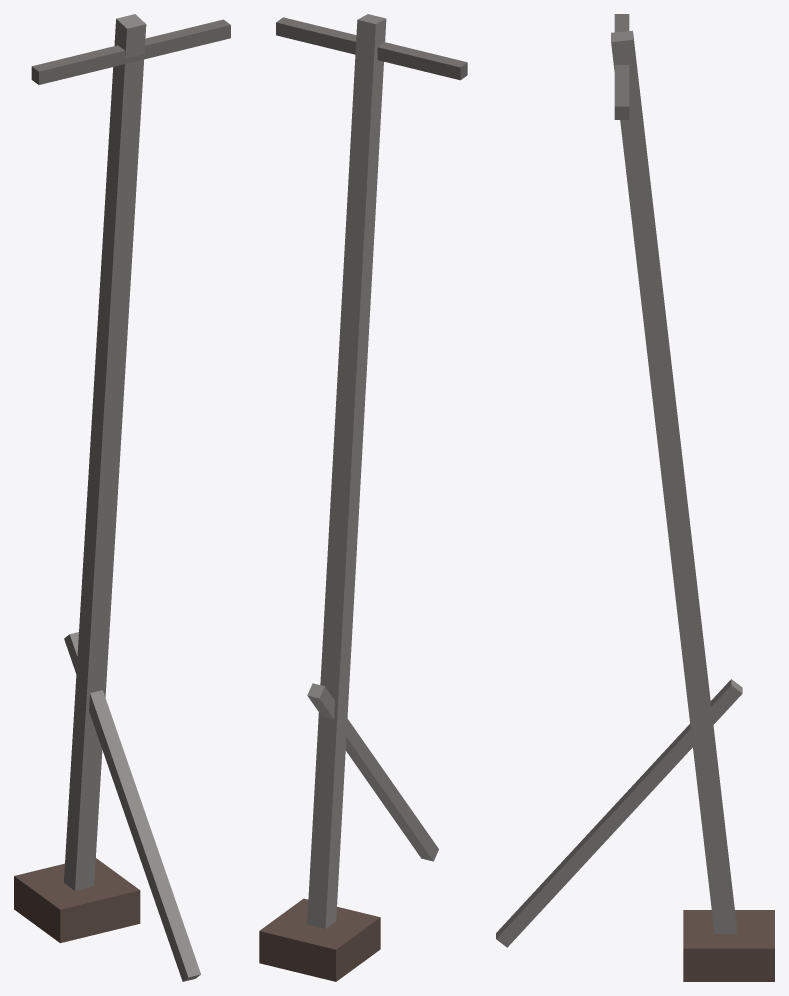
File: B_pole_a.glb
The picture shows the model from 3 angles, left to right: view 1: azimuth 30°, elevation 25°; view 2: azimuth 150°, elevation 25°; view 3: azimuth 270°, elevation 25°; orthographic projection. The views are drawn at different scales.
Visible parts, largest first — view 1: Cube, Cube.003, Cube.002, Cube.001; view 2: Cube, Cube.003, Cube.002, Cube.001; view 3: Cube, Cube.003, Cube.002, Cube.001.
Boxes of the visible parts, left/top/right/bottom form: Cube: left=64, top=14, right=146, bottom=890; Cube.003: left=14, top=858, right=140, bottom=943; Cube.002: left=64, top=632, right=200, bottom=981; Cube.001: left=31, top=19, right=230, bottom=84; Cube: left=307, top=14, right=386, bottom=928; Cube.003: left=259, top=898, right=380, bottom=981; Cube.002: left=307, top=683, right=438, bottom=861; Cube.001: left=276, top=17, right=467, bottom=80; Cube: left=611, top=30, right=736, bottom=933; Cube.003: left=683, top=910, right=774, bottom=981; Cube.002: left=496, top=679, right=742, bottom=947; Cube.001: left=614, top=14, right=629, bottom=119.
Bounding box in the file's own units: 1.2 × 5.59 × 1.52.
